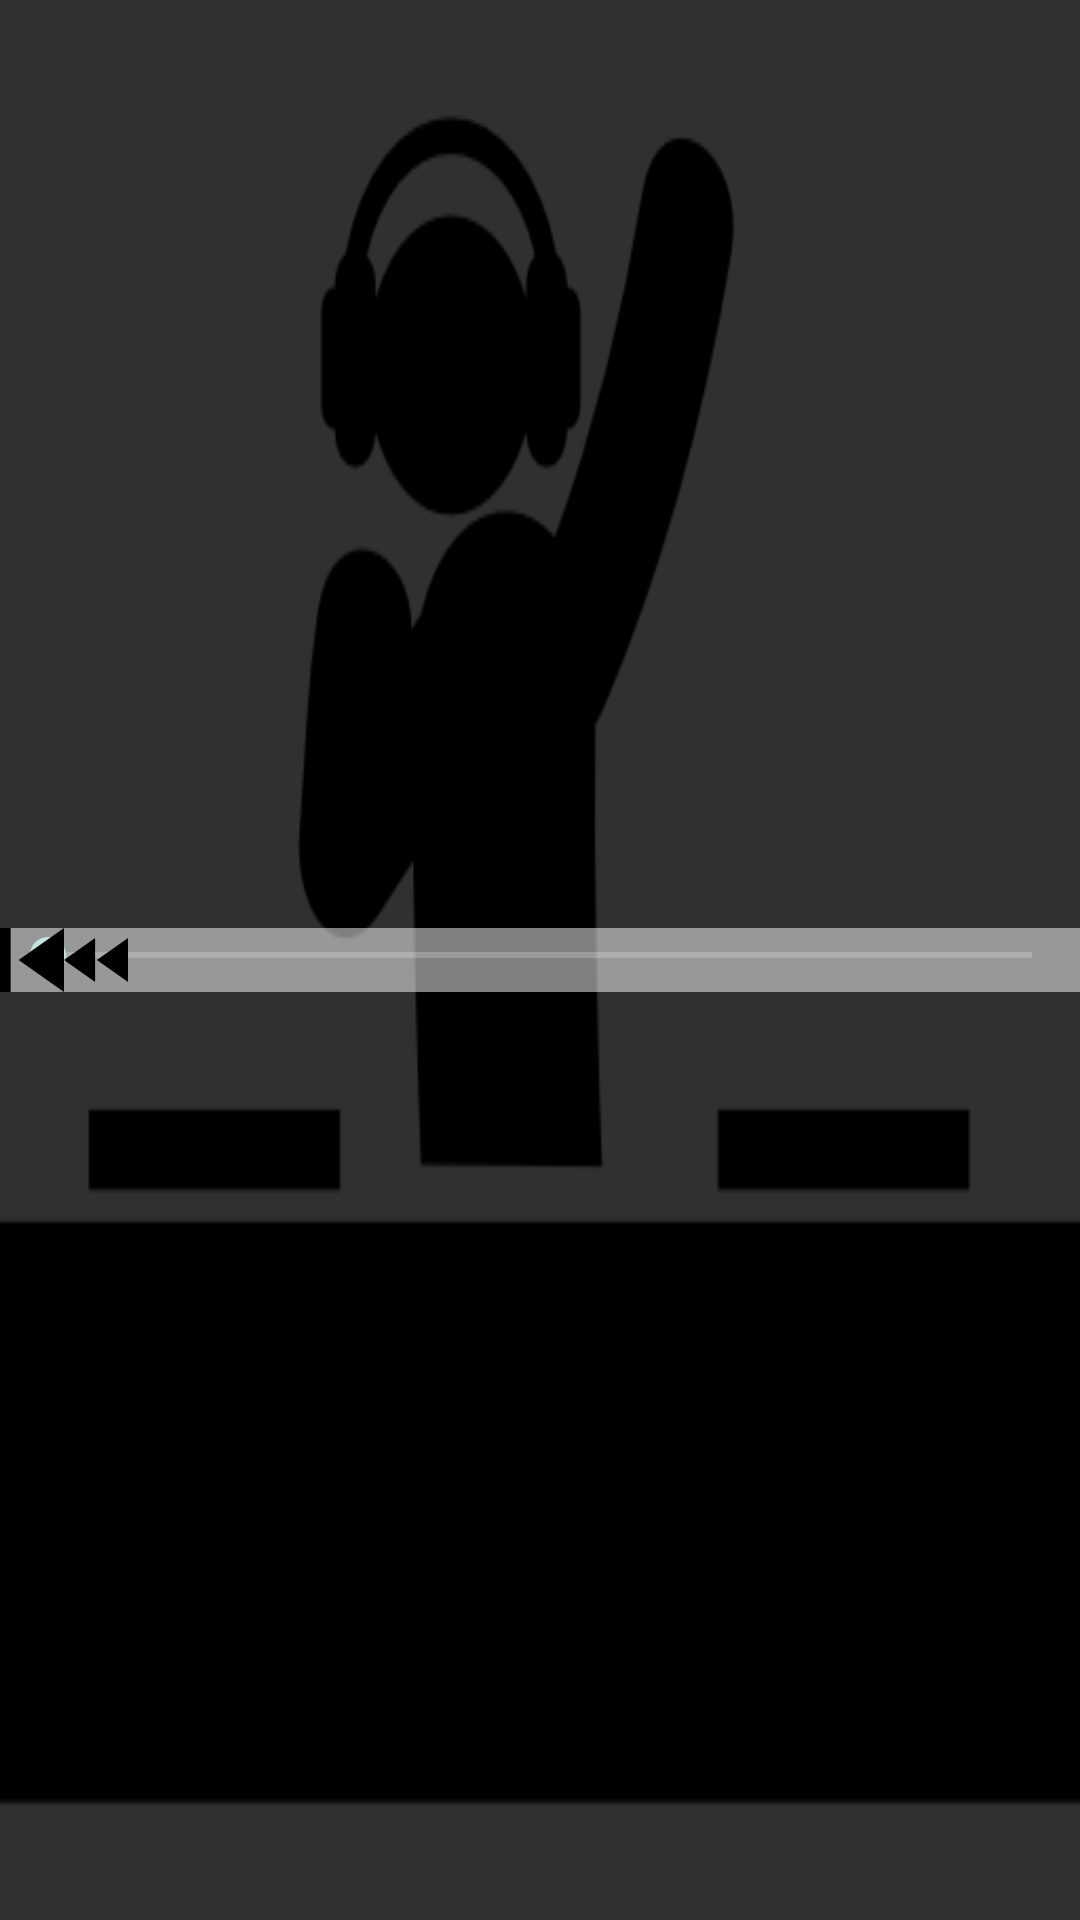

Point at icon controls on the screen. Image size 1080*1920, points as (x=x, y=y).
previous track: (x=32, y=960)
rewind: (x=96, y=960)
